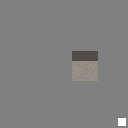supply_truck: (72, 51, 98, 81)
